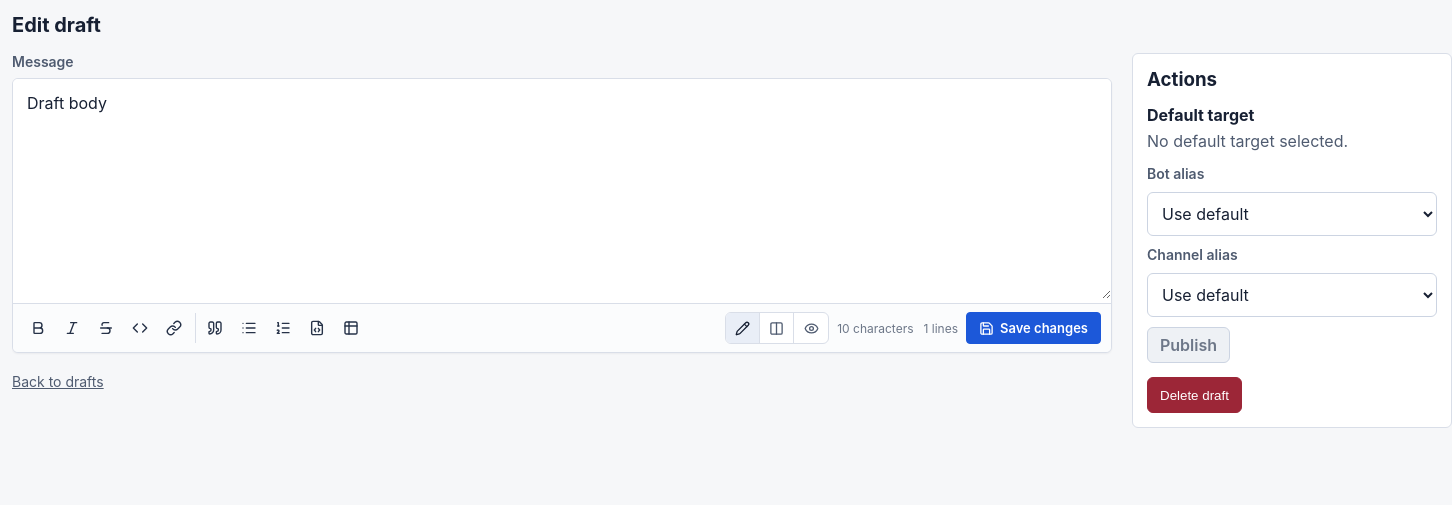
Test: remaining React pages › shows confirmation after saving an existing draft
This screenshot has width=1452, height=505.
Step 1. Click the button "Save changes" → (1034, 328), box [966, 312, 1101, 344]
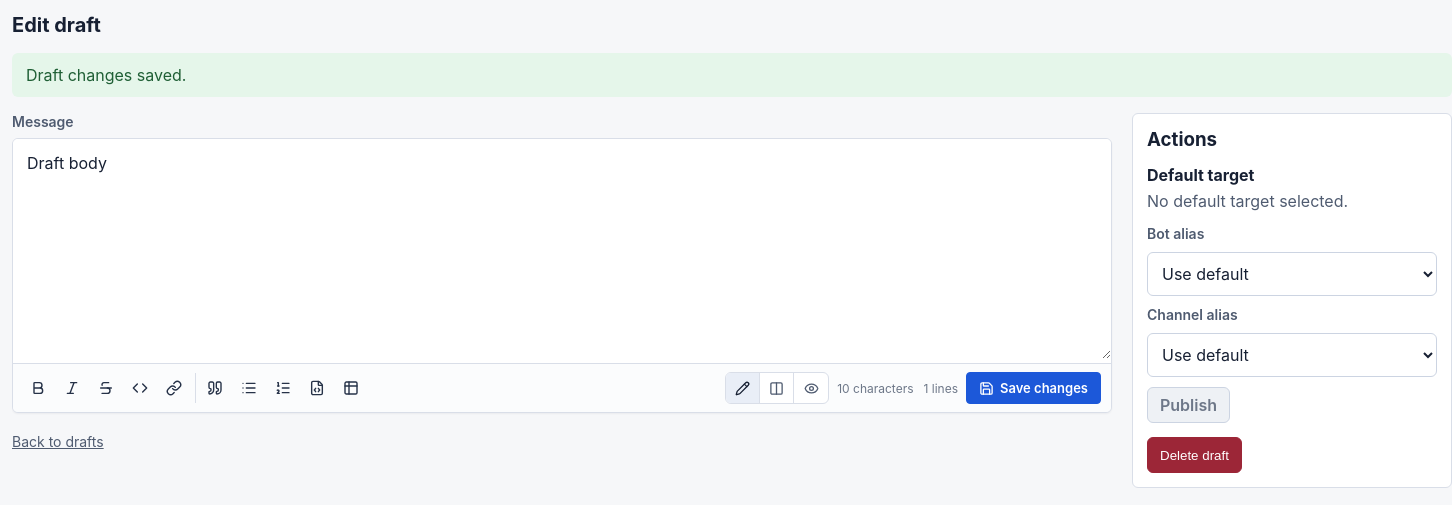
Now the message reads "Draft changes saved.", box [26, 65, 186, 85]
